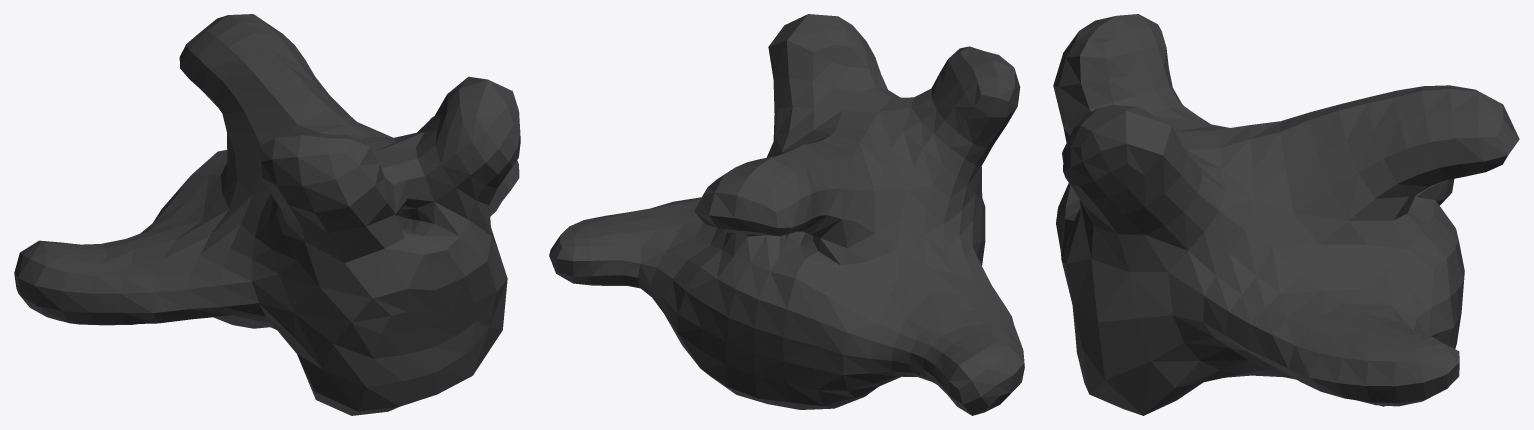
3 renders of one model, left to right at view 1: azimuth 30°, elevation 25°; view 2: azimuth 150°, elevation 25°; view 3: azimuth 270°, elevation 25°, orthographic. The views are drawn at different scales.
Visible parts, largest first — view 1: Co4; view 2: Co4; view 3: Co4.
Boxes of the visible parts, bbox=[...] form: Co4: bbox=[14, 14, 520, 415]; Co4: bbox=[549, 14, 1024, 415]; Co4: bbox=[1053, 14, 1519, 415].
Bounding box in the file's own units: 1.55 × 0.9363 × 1.19.
1 material, 1 textured.
